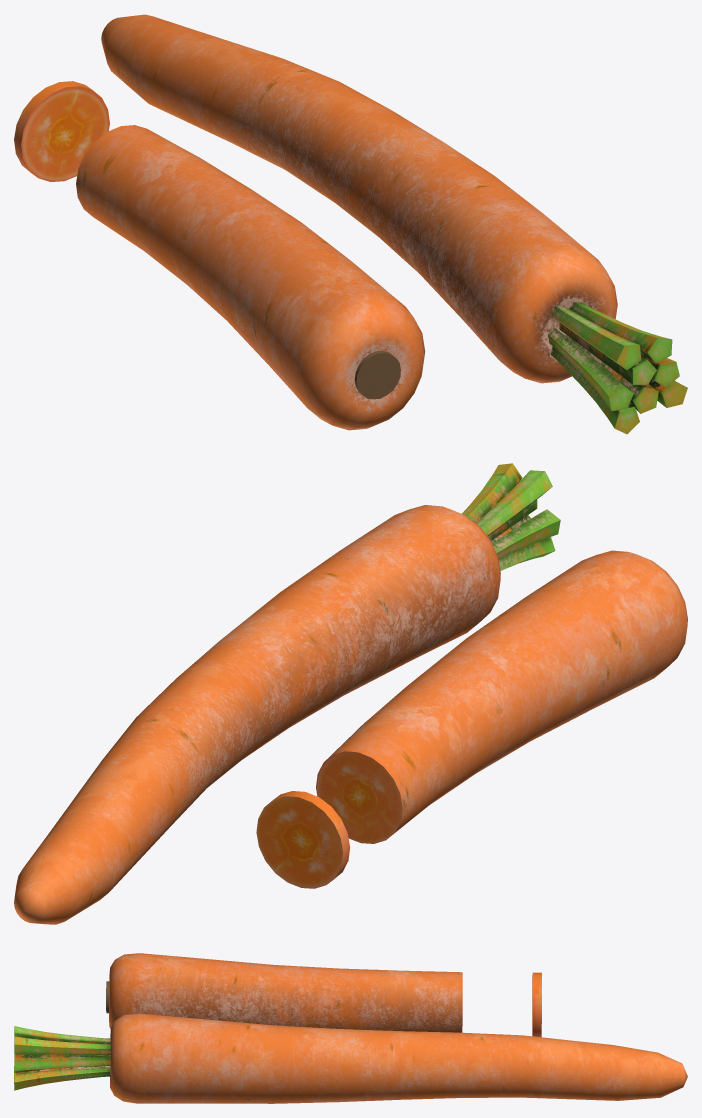
3 renders of one model, top to bottom at view 1: azimuth 30°, elevation 25°; view 2: azimuth 150°, elevation 25°; view 3: azimuth 270°, elevation 25°, orthographic. The views are drawn at different scales.
Visible parts, largest first — view 1: Carrot_Low; view 2: Carrot_Low; view 3: Carrot_Low.
Boxes of the visible parts, bbox=[...] form: Carrot_Low: bbox=[14, 14, 687, 434]; Carrot_Low: bbox=[14, 463, 687, 924]; Carrot_Low: bbox=[14, 953, 687, 1103].
Size of the model in its own units: 0.0951 by 0.0363 by 0.2651.
1 material, 1 textured.
